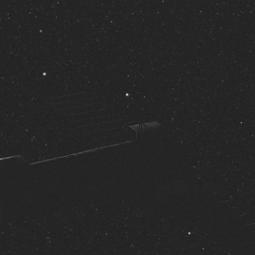xmm_newton: (0, 102, 171, 202)
